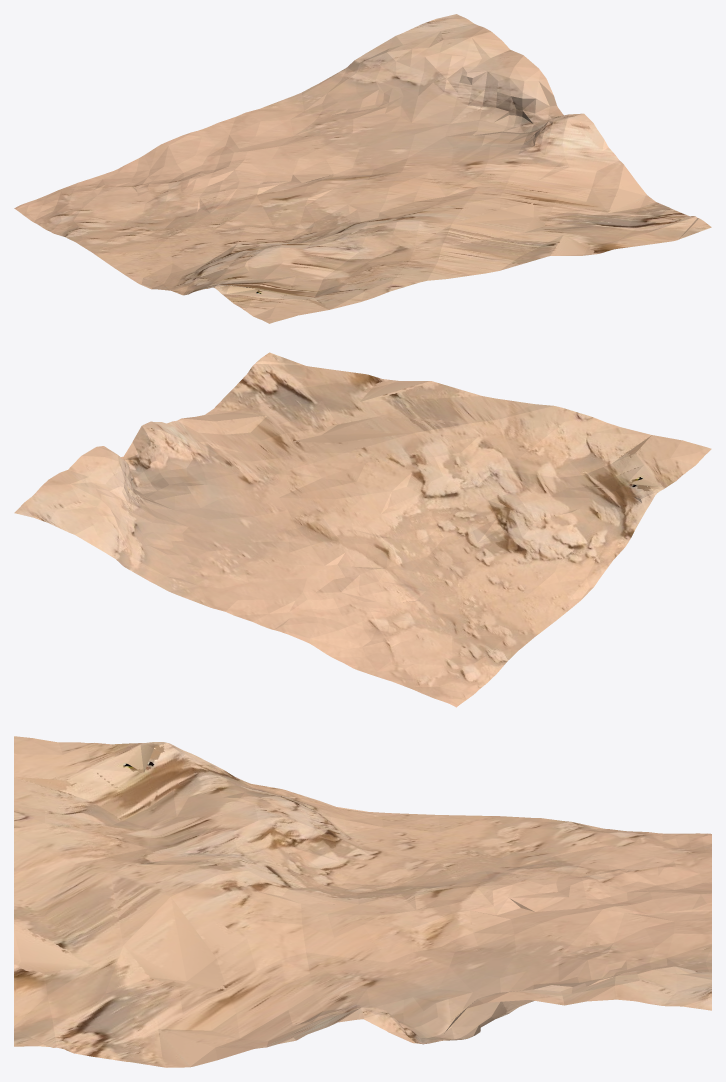
The picture shows the model from 3 angles, top to bottom: view 1: azimuth 30°, elevation 25°; view 2: azimuth 150°, elevation 25°; view 3: azimuth 270°, elevation 25°; orthographic projection. The views are drawn at different scales.
Bounding box in the file's own units: 1.04 × 0.2134 × 1.04.
3 materials, 3 textured.
